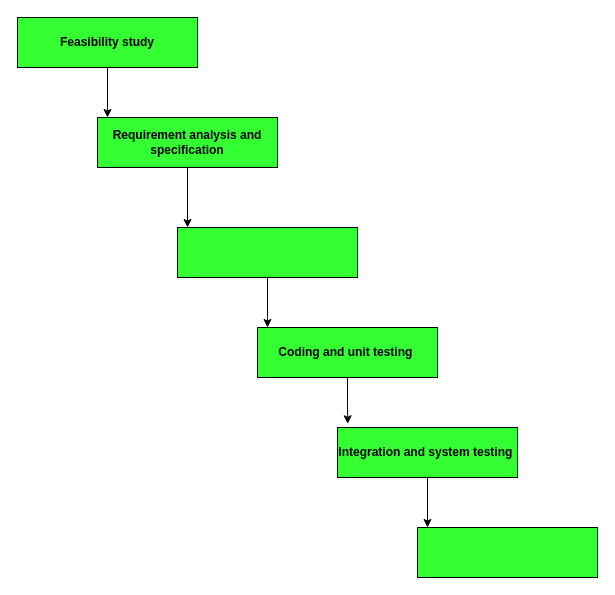
Some shapes in this 615 by 595 pixel diagram are drawn without their labels. Here are the shapes that lost their labels. From the top down, the centre of each, then its label:
pixel 267 252: Design
pixel 507 552: Maintainence
